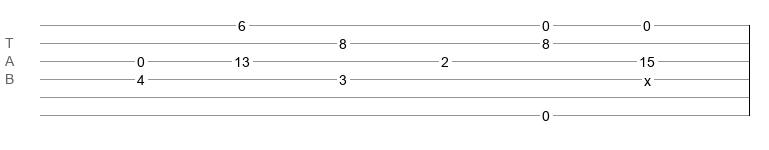0: (137, 54, 145, 64), (542, 108, 550, 118), (542, 18, 550, 28), (643, 18, 651, 28)
13: (234, 54, 250, 64)
15: (639, 54, 655, 64)
2: (441, 54, 449, 64)
3: (339, 72, 347, 82)
4: (137, 72, 145, 82)
6: (238, 18, 246, 28)
8: (339, 36, 347, 46), (542, 36, 550, 46)
x: (644, 73, 651, 81)
